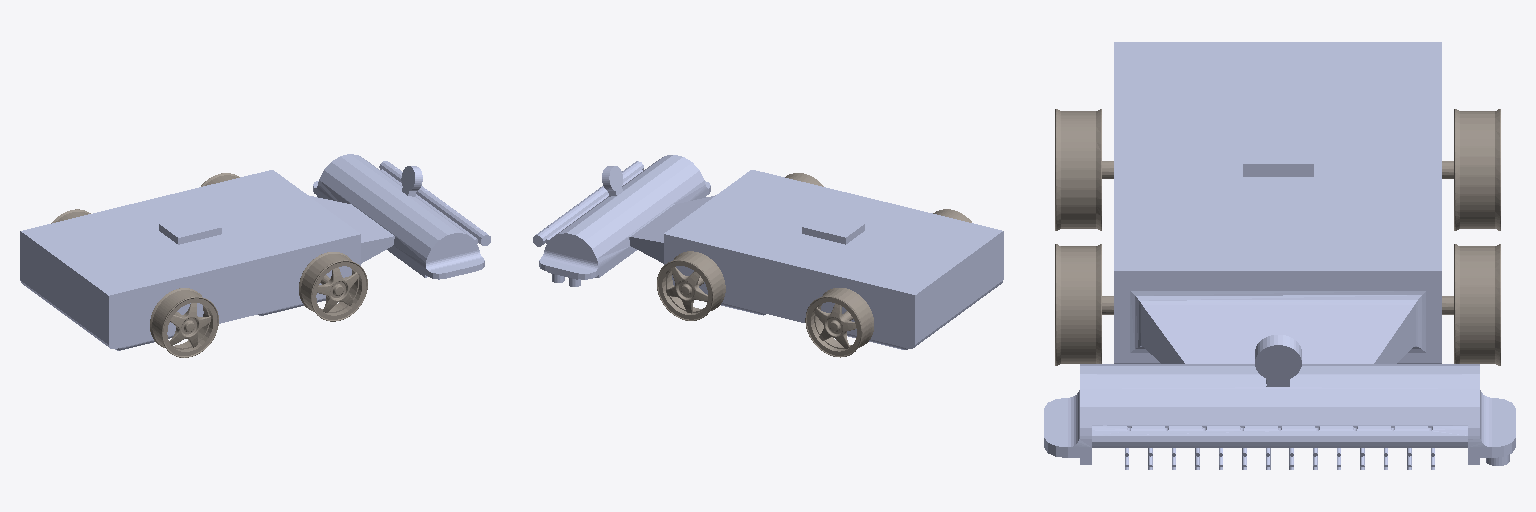
robot.urdf — Panel_Cleaner:
<?xml version="1.0" encoding="utf-8"?>
<!-- This URDF was automatically created by SolidWorks to URDF Exporter! Originally created by [author] ([email redacted]) 
     Commit Version: 1.6.0-1-g15f4949  Build Version: 1.6.7594.29634
     For more information, please see http://wiki.ros.org/sw_urdf_exporter -->
<robot
  name="Panel_Cleaner">
  <link
    name="base_link">
    <inertial>
      <origin
        xyz="0.025757 -0.0090011 -8.1677E-05"
        rpy="0 0 0" />
      <mass
        value="1.1071" />
      <inertia
        ixx="0.0023818"
        ixy="-0.00016651"
        ixz="6.8234E-06"
        iyy="0.0085608"
        iyz="4.72E-07"
        izz="0.0064771" />
    </inertial>
    <visual>
      <origin
        xyz="0 0 0"
        rpy="0 0 0" />
      <geometry>
        <mesh
          filename="package://Panel_Cleaner/meshes/base_link.STL" />
      </geometry>
      <material
        name="">
        <color
          rgba="0.79216 0.81961 0.93333 1" />
      </material>
    </visual>
    <collision>
      <origin
        xyz="0 0 0"
        rpy="0 0 0" />
      <geometry>
        <mesh
          filename="package://Panel_Cleaner/meshes/base_link.STL" />
      </geometry>
    </collision>
  </link>
  <link
    name="wheel_1">
    <inertial>
      <origin
        xyz="0.015629 8.9171E-11 -1.5595E-10"
        rpy="0 0 0" />
      <mass
        value="0.3065" />
      <inertia
        ixx="0.0002214"
        ixy="-4.5161E-15"
        ixz="2.8077E-14"
        iyy="0.00012021"
        iyz="1.9971E-13"
        izz="0.00012021" />
    </inertial>
    <visual>
      <origin
        xyz="0 0 0"
        rpy="0 0 0" />
      <geometry>
        <mesh
          filename="package://Panel_Cleaner/meshes/wheel_1.STL" />
      </geometry>
      <material
        name="">
        <color
          rgba="0.65098 0.61961 0.58824 1" />
      </material>
    </visual>
    <collision>
      <origin
        xyz="0 0 0"
        rpy="0 0 0" />
      <geometry>
        <mesh
          filename="package://Panel_Cleaner/meshes/wheel_1.STL" />
      </geometry>
    </collision>
  </link>
  <joint
    name="base_to_wheel1"
    type="continuous">
    <origin
      xyz="0.0811 0.0697 -0.00775"
      rpy="2.1093 0 1.5708" />
    <parent
      link="base_link" />
    <child
      link="wheel_1" />
    <axis
      xyz="1 0 0" />
    <limit
      effort="100"
      velocity="10" />
  </joint>
  <link
    name="wheel_2">
    <inertial>
      <origin
        xyz="0.015629 -1.7798E-10 2.9137E-10"
        rpy="0 0 0" />
      <mass
        value="0.3065" />
      <inertia
        ixx="0.0002214"
        ixy="1.3026E-13"
        ixz="-1.2967E-13"
        iyy="0.00012021"
        iyz="2.2748E-13"
        izz="0.00012021" />
    </inertial>
    <visual>
      <origin
        xyz="0 0 0"
        rpy="0 0 0" />
      <geometry>
        <mesh
          filename="package://Panel_Cleaner/meshes/wheel_2.STL" />
      </geometry>
      <material
        name="">
        <color
          rgba="0.65098 0.61961 0.58824 1" />
      </material>
    </visual>
    <collision>
      <origin
        xyz="0 0 0"
        rpy="0 0 0" />
      <geometry>
        <mesh
          filename="package://Panel_Cleaner/meshes/wheel_2.STL" />
      </geometry>
    </collision>
  </link>
  <joint
    name="base_to_wheel2"
    type="continuous">
    <origin
      xyz="-0.0547 0.0697 -0.00775"
      rpy="1.674 0 1.5708" />
    <parent
      link="base_link" />
    <child
      link="wheel_2" />
    <axis
      xyz="1 0 0" />
    <limit
      effort="100"
      velocity="10" />
  </joint>
  <link
    name="wheel_3">
    <inertial>
      <origin
        xyz="0.015629 1.1654E-10 1.1847E-10"
        rpy="0 0 0" />
      <mass
        value="0.3065" />
      <inertia
        ixx="0.0002214"
        ixy="-1.1245E-14"
        ixz="-4.6473E-15"
        iyy="0.00012021"
        iyz="4.2166E-15"
        izz="0.00012021" />
    </inertial>
    <visual>
      <origin
        xyz="0 0 0"
        rpy="0 0 0" />
      <geometry>
        <mesh
          filename="package://Panel_Cleaner/meshes/wheel_3.STL" />
      </geometry>
      <material
        name="">
        <color
          rgba="0.65098 0.61961 0.58824 1" />
      </material>
    </visual>
    <collision>
      <origin
        xyz="0 0 0"
        rpy="0 0 0" />
      <geometry>
        <mesh
          filename="package://Panel_Cleaner/meshes/wheel_3.STL" />
      </geometry>
    </collision>
  </link>
  <joint
    name="base_to_wheel3"
    type="continuous">
    <origin
      xyz="0.0811 -0.0697 -0.00775"
      rpy="-2.9048 0 -1.5708" />
    <parent
      link="base_link" />
    <child
      link="wheel_3" />
    <axis
      xyz="1 0 0" />
    <limit
      effort="100"
      velocity="10" />
  </joint>
  <link
    name="wheel_4">
    <inertial>
      <origin
        xyz="0.015629 1.0217E-10 5.6664E-11"
        rpy="0 0 0" />
      <mass
        value="0.3065" />
      <inertia
        ixx="0.0002214"
        ixy="4.5042E-14"
        ixz="2.3293E-14"
        iyy="0.00012021"
        iyz="-1.1534E-13"
        izz="0.00012021" />
    </inertial>
    <visual>
      <origin
        xyz="0 0 0"
        rpy="0 0 0" />
      <geometry>
        <mesh
          filename="package://Panel_Cleaner/meshes/wheel_4.STL" />
      </geometry>
      <material
        name="">
        <color
          rgba="0.65098 0.61961 0.58824 1" />
      </material>
    </visual>
    <collision>
      <origin
        xyz="0 0 0"
        rpy="0 0 0" />
      <geometry>
        <mesh
          filename="package://Panel_Cleaner/meshes/wheel_4.STL" />
      </geometry>
    </collision>
  </link>
  <joint
    name="base_to_wheel4"
    type="continuous">
    <origin
      xyz="-0.0547 -0.0697 -0.00775"
      rpy="1.9166 0 -1.5708" />
    <parent
      link="base_link" />
    <child
      link="wheel_4" />
    <axis
      xyz="1 0 0" />
    <limit
      effort="100"
      velocity="10" />
  </joint>
  <link
    name="camera_link">
    <inertial>
      <origin
        xyz="0.0035 0.010113 -3.1171E-19"
        rpy="0 0 0" />
      <mass
        value="0.0026257" />
      <inertia
        ixx="1.718E-07"
        ixy="-5.9557E-23"
        ixz="1.7011E-24"
        iyy="6.9461E-08"
        iyz="-1.6896E-24"
        izz="1.2378E-07" />
    </inertial>
    <visual>
      <origin
        xyz="0 0 0"
        rpy="0 0 0" />
      <geometry>
        <mesh
          filename="package://Panel_Cleaner/meshes/camera_link.STL" />
      </geometry>
      <material
        name="">
        <color
          rgba="0.79216 0.81961 0.93333 1" />
      </material>
    </visual>
    <collision>
      <origin
        xyz="0 0 0"
        rpy="0 0 0" />
      <geometry>
        <mesh
          filename="package://Panel_Cleaner/meshes/camera_link.STL" />
      </geometry>
    </collision>
  </link>
  <joint
    name="camera_joint"
    type="fixed">
    <origin
      xyz="0.19528 5E-05 0.012985"
      rpy="1.5708 0.2618 0" />
    <parent
      link="base_link" />
    <child
      link="camera_link" />
    <axis
      xyz="0 0 0" />
  </joint>
  
  <link
    name="sonar1_link">
    <inertial>
      <origin
        xyz="0 -0.0041618 -4.1633E-17"
        rpy="0 0 0" />
      <mass
        value="0.0017942" />
      <inertia
        ixx="2.9797E-08"
        ixy="-3.7432E-25"
        ixz="5.2902E-24"
        iyy="1.2797E-07"
        iyz="1.8085E-24"
        izz="1.2915E-07" />
    </inertial>
    <visual>
      <origin
        xyz="0 0 0"
        rpy="0 0 0" />
      <geometry>
        <mesh
          filename="package://Panel_Cleaner/meshes/sonar1_link.STL" />
      </geometry>
      <material
        name="">
        <color
          rgba="0.79216 0.81961 0.93333 1" />
      </material>
    </visual>
    <collision>
      <origin
        xyz="0 0 0"
        rpy="0 0 0" />
      <geometry>
        <mesh
          filename="package://Panel_Cleaner/meshes/sonar1_link.STL" />
      </geometry>
    </collision>
  </link>
  <joint
    name="sonar1_joint"
    type="fixed">
    <origin
      xyz="0.19 0.093223 -0.017"
      rpy="1.5708 0 0" />
    <parent
      link="base_link" />
    <child
      link="sonar1_link" />
    <axis
      xyz="0 0 0" />
  </joint>
  <link
    name="sonar2_link">
    <inertial>
      <origin
        xyz="-2.7756E-17 -0.0041618 -4.1633E-17"
        rpy="0 0 0" />
      <mass
        value="0.0017942" />
      <inertia
        ixx="2.9797E-08"
        ixy="1.8265E-23"
        ixz="-1.3401E-24"
        iyy="1.2797E-07"
        iyz="-8.4079E-25"
        izz="1.2915E-07" />
    </inertial>
    <visual>
      <origin
        xyz="0 0 0"
        rpy="0 0 0" />
      <geometry>
        <mesh
          filename="package://Panel_Cleaner/meshes/sonar2_link.STL" />
      </geometry>
      <material
        name="">
        <color
          rgba="0.79216 0.81961 0.93333 1" />
      </material>
    </visual>
    <collision>
      <origin
        xyz="0 0 0"
        rpy="0 0 0" />
      <geometry>
        <mesh
          filename="package://Panel_Cleaner/meshes/sonar2_link.STL" />
      </geometry>
    </collision>
  </link>
  <joint
    name="sonar2_joint"
    type="fixed">
    <origin
      xyz="0.19 -0.091777 -0.017"
      rpy="1.5708 0 0" />
    <parent
      link="base_link" />
    <child
      link="sonar2_link" />
    <axis
      xyz="0 0 0" />
  </joint>
  <link
    name="imu_link">
    <inertial>
      <origin
        xyz="-2.0817E-17 0.003 9.6453E-19"
        rpy="0 0 0" />
      <mass
        value="0.0072" />
      <inertia
        ixx="5.616E-07"
        ixy="-1.7937E-40"
        ixz="4.6434E-23"
        iyy="1.5E-06"
        iyz="0"
        izz="9.816E-07" />
    </inertial>
    <visual>
      <origin
        xyz="0 0 0"
        rpy="0 0 0" />
      <geometry>
        <mesh
          filename="package://Panel_Cleaner/meshes/imu_link.STL" />
      </geometry>
      <material
        name="">
        <color
          rgba="0.79216 0.81961 0.93333 1" />
      </material>
    </visual>
    <collision>
      <origin
        xyz="0 0 0"
        rpy="0 0 0" />
      <geometry>
        <mesh
          filename="package://Panel_Cleaner/meshes/imu_link.STL" />
      </geometry>
    </collision>
  </link>
  <joint
    name="imu_joint"
    type="fixed">
    <origin
      xyz="0 0 0.024"
      rpy="1.5708 0 0" />
    <parent
      link="base_link" />
    <child
      link="imu_link" />
    <axis
      xyz="0 0 0" />
  </joint>
  <link
    name="roller_link">
    <inertial>
      <origin
        xyz="0.000723 4.996E-16 4.1633E-16"
        rpy="0 0 0" />
      <mass
        value="0.04194" />
      <inertia
        ixx="2.2656E-06"
        ixy="5.8396E-20"
        ixz="-4.8334E-20"
        iyy="6.7402E-05"
        iyz="-6.7763E-21"
        izz="6.7402E-05" />
    </inertial>
    <visual>
      <origin
        xyz="0 0 0"
        rpy="0 0 0" />
      <geometry>
        <mesh
          filename="package://Panel_Cleaner/meshes/roller_link.STL" />
      </geometry>
      <material
        name="">
        <color
          rgba="0.79216 0.81961 0.93333 1" />
      </material>
    </visual>
    <collision>
      <origin
        xyz="0 0 0"
        rpy="0 0 0" />
      <geometry>
        <mesh
          filename="package://Panel_Cleaner/meshes/roller_link.STL" />
      </geometry>
    </collision>
  </link>
  <joint
    name="base_to_roller"
    type="continuous">
    <origin
      xyz="0.19 0 -0.012"
      rpy="2.6124 0 1.5708" />
    <parent
      link="base_link" />
    <child
      link="roller_link" />
    <axis
      xyz="1 0 0" />
  </joint>
</robot>

--- What the picture shows (computed from the rendered views, not written in the file) ---
The picture shows the robot from 3 angles, left to right: view 1: azimuth 30°, elevation 25°; view 2: azimuth 150°, elevation 25°; view 3: azimuth 270°, elevation 25°; orthographic projection.
Model Panel_Cleaner with 10 links and 9 joints (5 continuous, 4 fixed), rooted at base_link, posed every joint at zero.
Links seen in each view (by area): view 1: base_link, wheel_3, wheel_4, imu_link, camera_link; view 2: base_link, wheel_1, wheel_2, imu_link, camera_link; view 3: base_link, wheel_1, wheel_3, wheel_2, wheel_4, imu_link, camera_link, roller_link.
Link boxes in pixels (box(x1,y1,x2,y2)): base_link: box(20, 154, 490, 350); wheel_3: box(299, 252, 367, 321); wheel_4: box(150, 288, 218, 357); imu_link: box(159, 214, 221, 244); camera_link: box(401, 166, 422, 196); base_link: box(533, 155, 1003, 349); wheel_1: box(657, 251, 725, 320); wheel_2: box(805, 288, 873, 357); imu_link: box(802, 213, 864, 244); camera_link: box(602, 166, 622, 196); base_link: box(1044, 42, 1515, 464); wheel_1: box(1442, 244, 1500, 365); wheel_3: box(1055, 244, 1113, 365); wheel_2: box(1442, 109, 1500, 230); wheel_4: box(1055, 109, 1113, 230); imu_link: box(1243, 124, 1313, 176); camera_link: box(1255, 335, 1301, 386); roller_link: box(1125, 380, 1434, 469).
Bounding box of the posed robot: 0.3434 × 0.2 × 0.0681 m (x, y, z).
Meshes: 10 distinct files referenced, 9 mesh visuals loaded (9 binary STL); not drawn: 1 (reference not matched to a file when rendering).